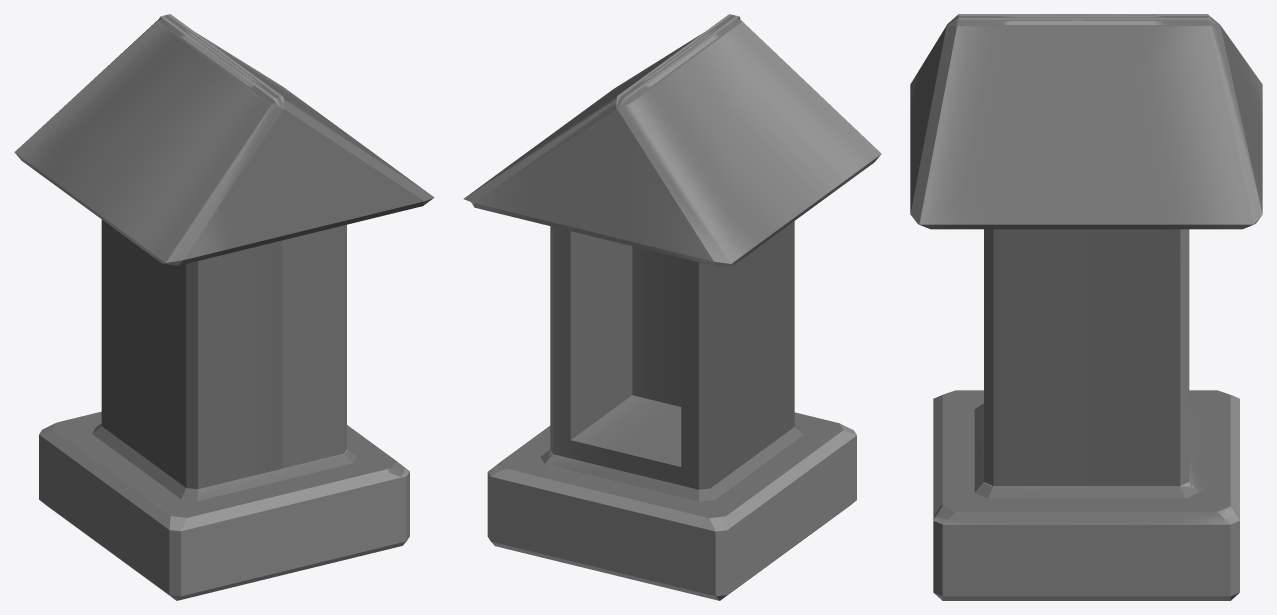
File: templopromeiodamata.fbx
3 views of the same model, side by side, from view 1: azimuth 30°, elevation 25°; view 2: azimuth 150°, elevation 25°; view 3: azimuth 270°, elevation 25° (orthographic). The views are drawn at different scales.
Parts seen in each view (by area): view 1: Cube; view 2: Cube; view 3: Cube.
Part boxes in pixels (left/top/right/bottom): Cube: left=14, top=14, right=434, bottom=600; Cube: left=463, top=14, right=881, bottom=600; Cube: left=910, top=14, right=1262, bottom=600.
Size of the model in its own units: 224 by 375 by 229.
Materials: 1 (1 with a texture image).
